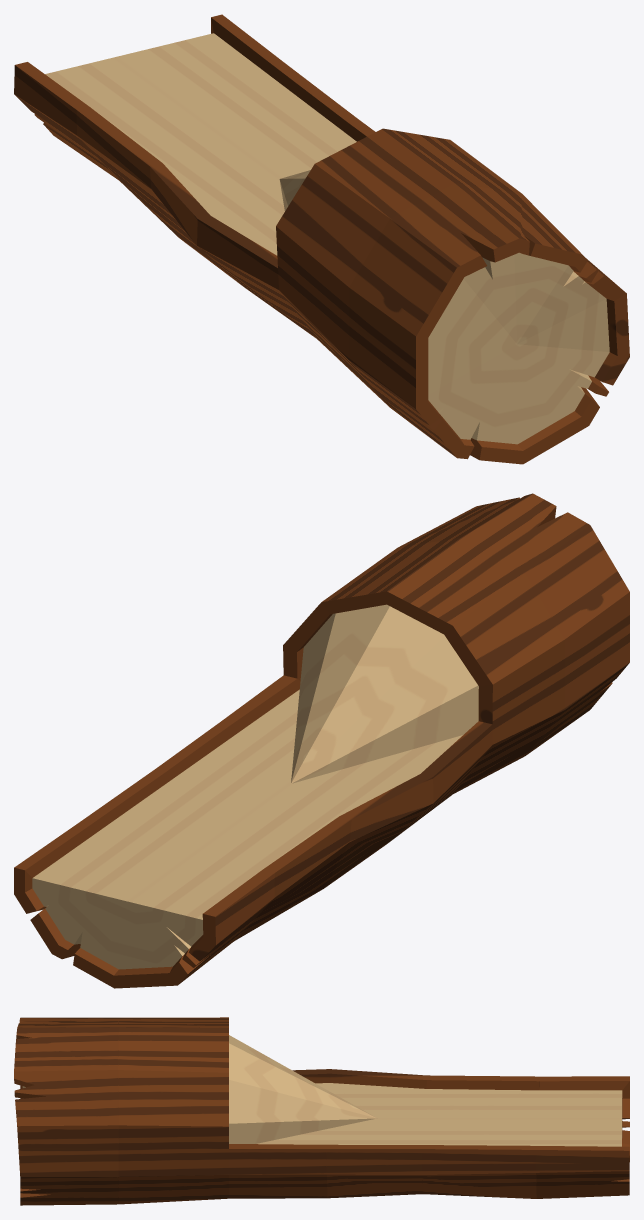
Rendered from log1.fbx.
The picture shows the model from 3 angles, top to bottom: view 1: azimuth 30°, elevation 25°; view 2: azimuth 150°, elevation 25°; view 3: azimuth 270°, elevation 25°; orthographic projection. The views are drawn at different scales.
Parts seen in each view (by area): view 1: Cylinder.003; view 2: Cylinder.003; view 3: Cylinder.003.
Boxes of the visible parts, bbox=[...] form: Cylinder.003: bbox=[14, 14, 629, 464]; Cylinder.003: bbox=[14, 493, 629, 988]; Cylinder.003: bbox=[14, 1017, 629, 1205].
Bounding box in the file's own units: 203 × 198 × 644.
